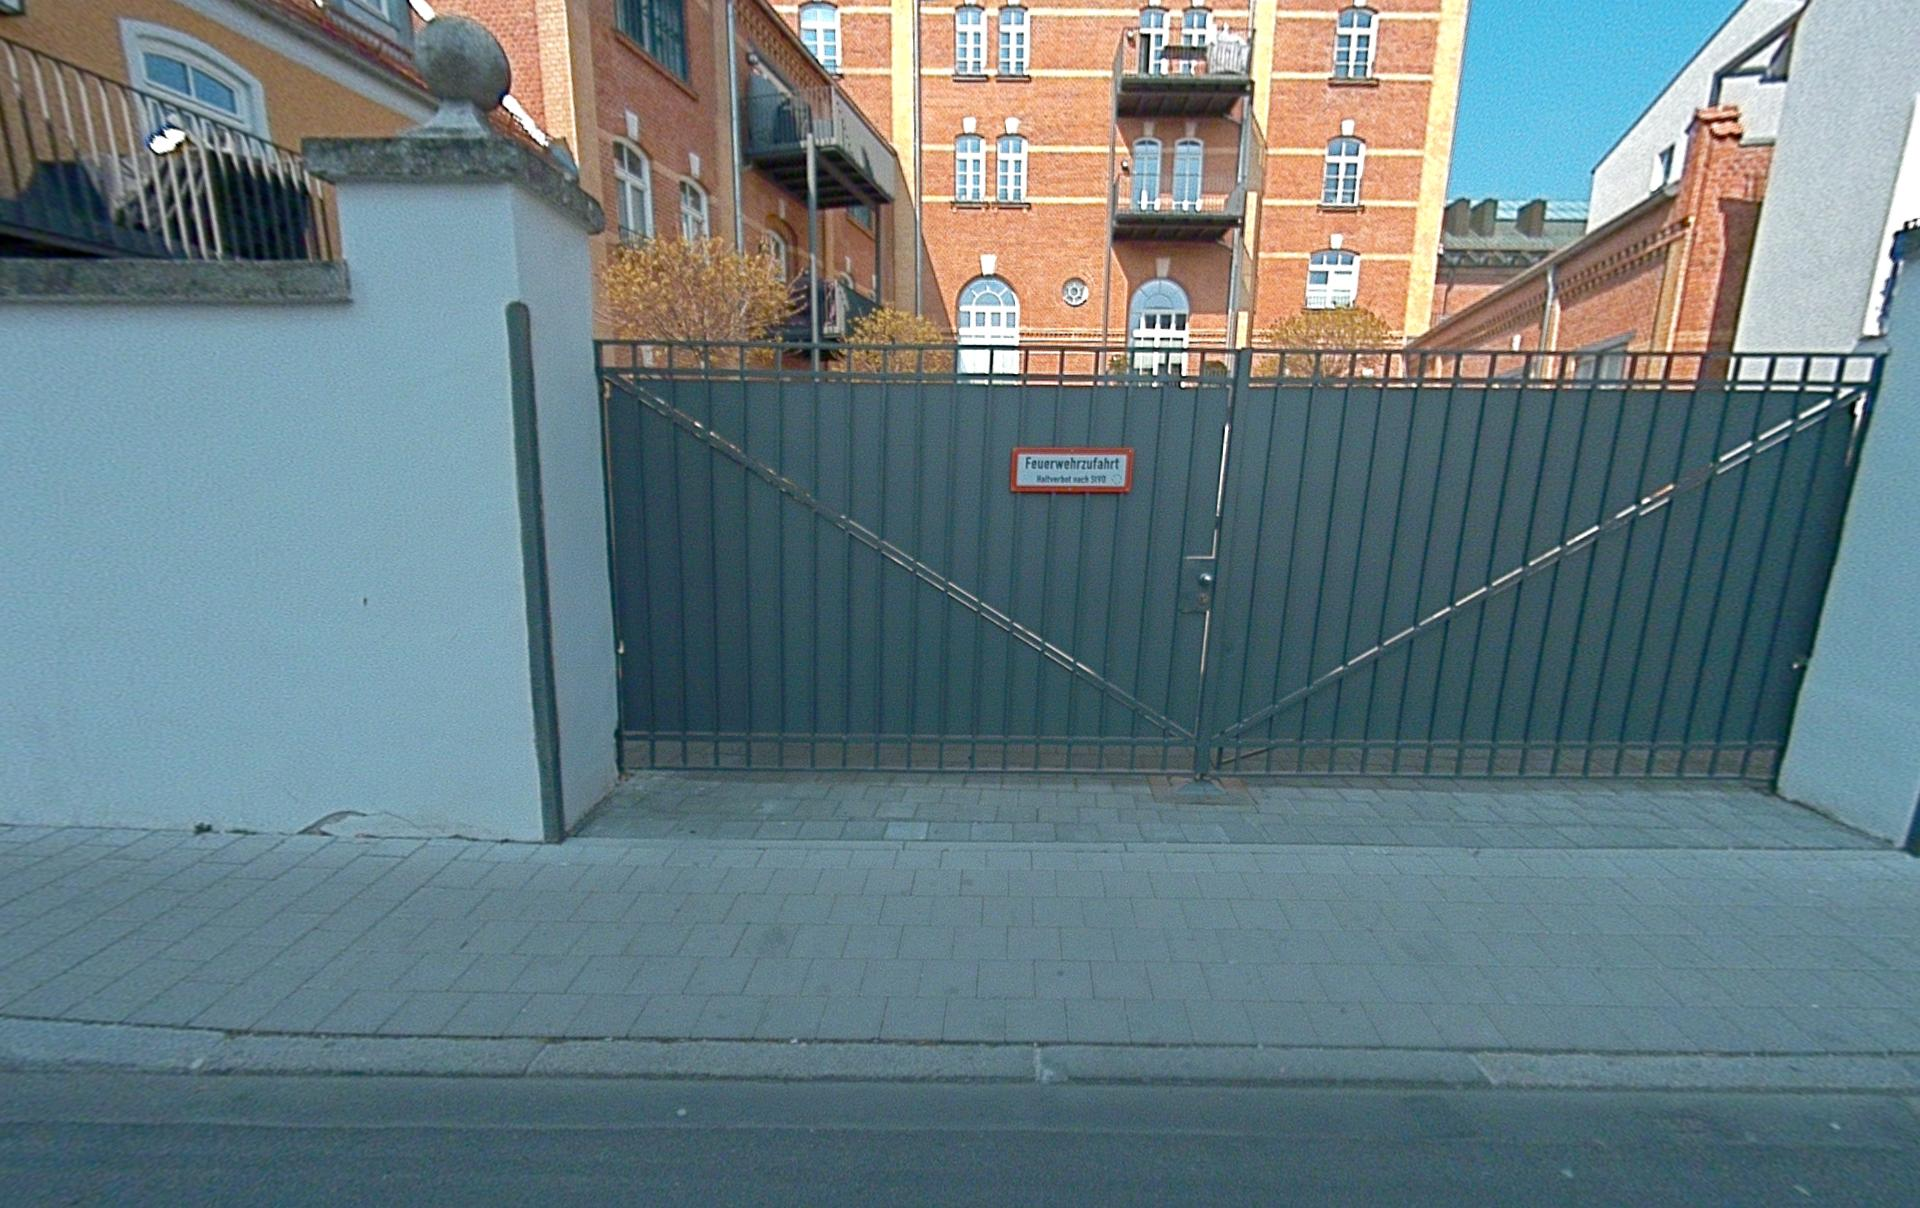traffic sign: (1010, 445, 1135, 494)
